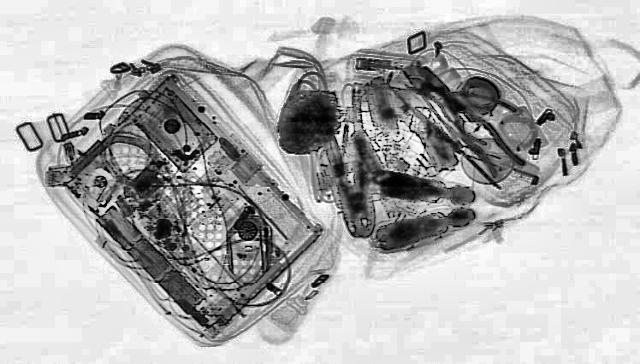Pliers: (402, 62, 532, 176), (384, 66, 536, 146), (314, 104, 386, 238)
